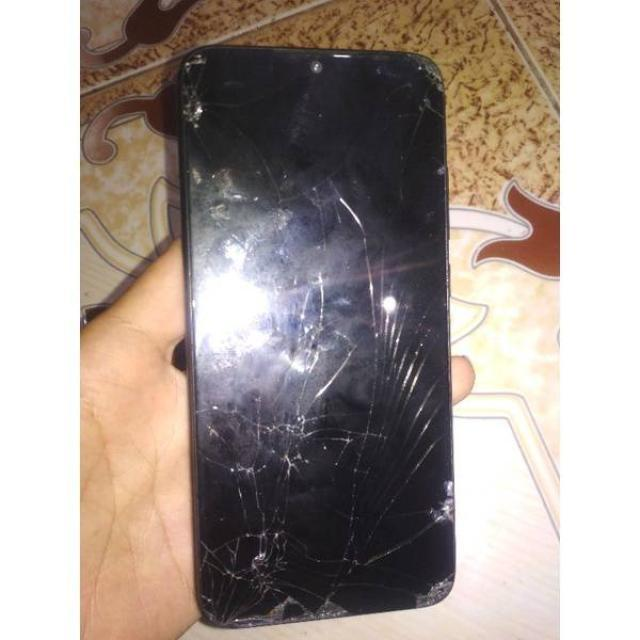phone: (183, 46, 455, 608)
